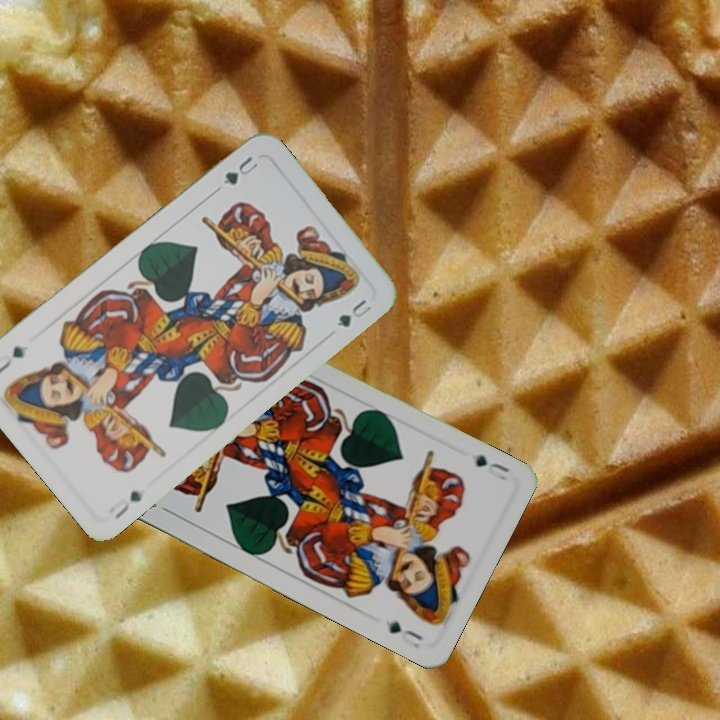GU: (219, 152, 261, 188), (105, 486, 146, 522), (471, 450, 513, 483)
